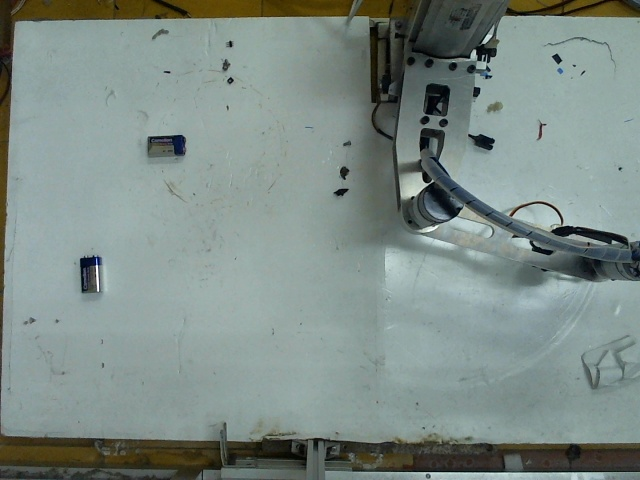battery: (141, 127, 184, 158), (72, 253, 103, 293)
